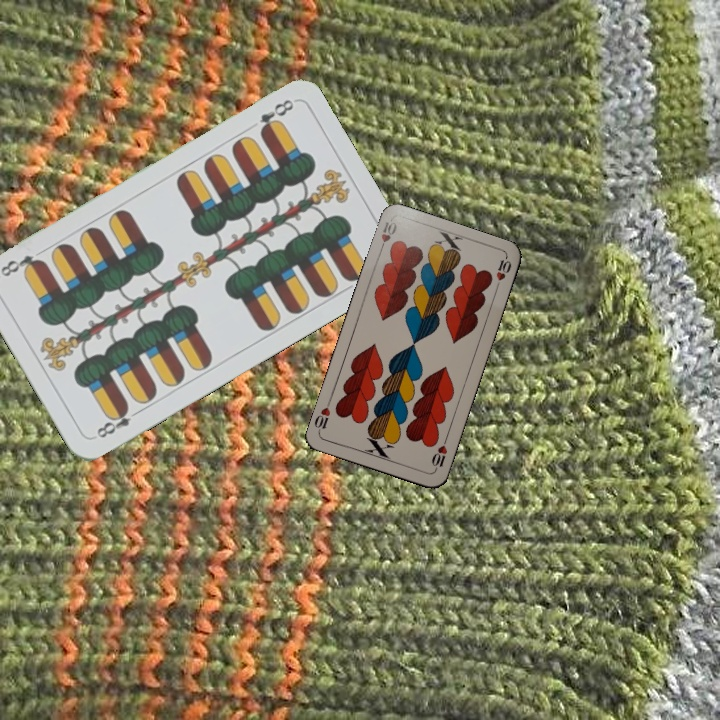E8: (92, 402, 144, 441), (255, 95, 297, 137)
H10: (375, 218, 400, 256), (428, 434, 450, 473)
